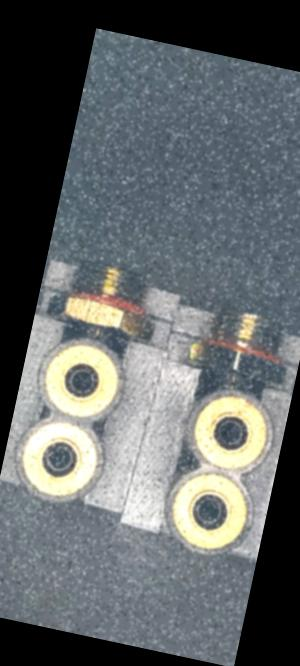craze: (224, 370, 240, 391), (90, 322, 103, 341)
off-centered: (37, 439, 78, 479)
